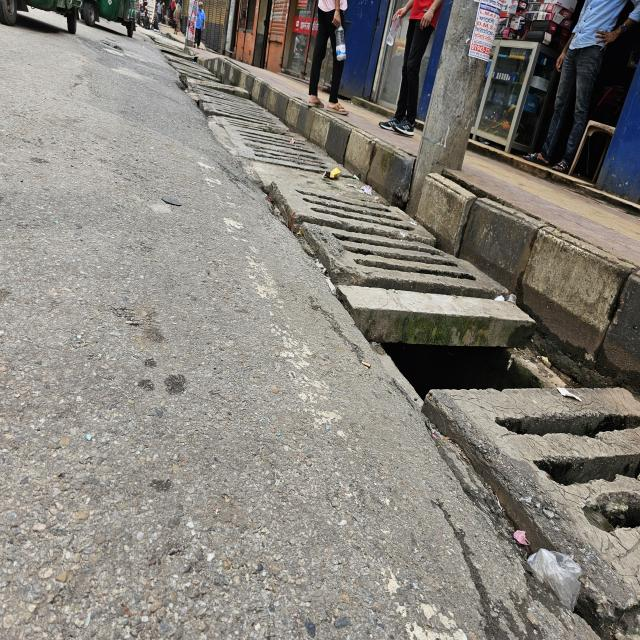drain_inlet: (377, 311, 552, 401)
